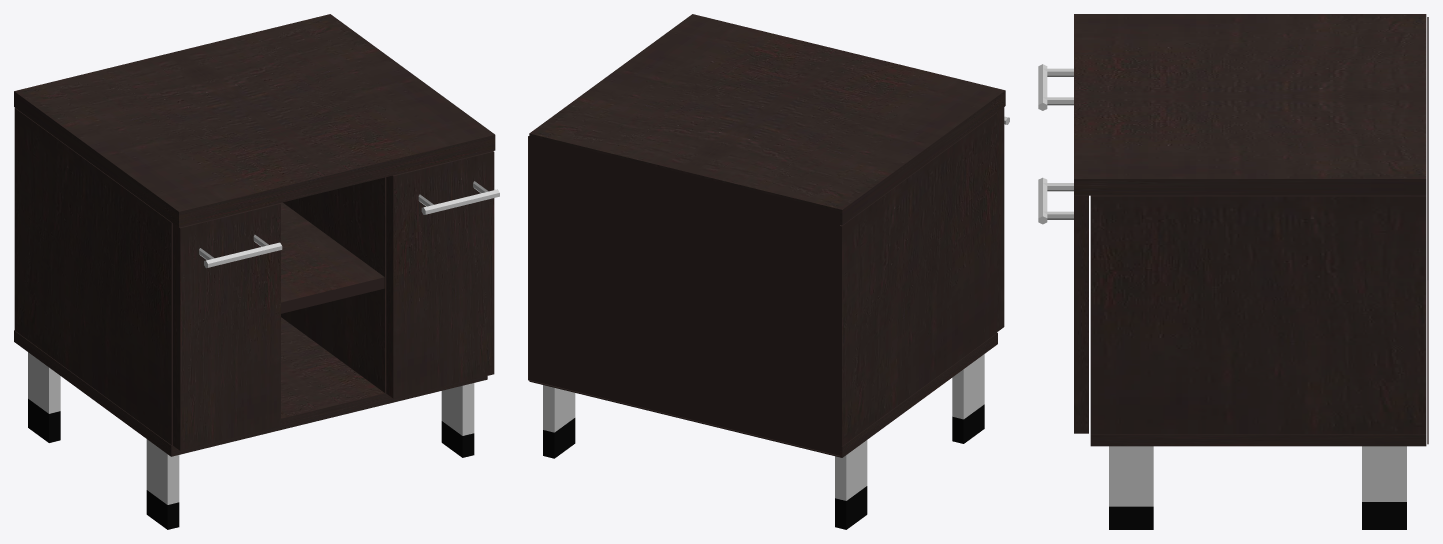
File: sh-bsby-tv-stand.glb
The picture shows the model from 3 angles, left to right: view 1: azimuth 30°, elevation 25°; view 2: azimuth 150°, elevation 25°; view 3: azimuth 270°, elevation 25°; orthographic projection. The views are drawn at different scales.
Visible parts, largest first — view 1: Tv_Unit_Cube.007; view 2: Tv_Unit_Cube.007; view 3: Tv_Unit_Cube.007.
Boxes of the visible parts, x1,y1,x2,y2 form: Tv_Unit_Cube.007: (14, 14, 499, 529); Tv_Unit_Cube.007: (528, 14, 1009, 529); Tv_Unit_Cube.007: (1038, 14, 1428, 529).
Size of the model in its own units: 1 by 1 by 1.
Materials: 3 (1 with a texture image).
